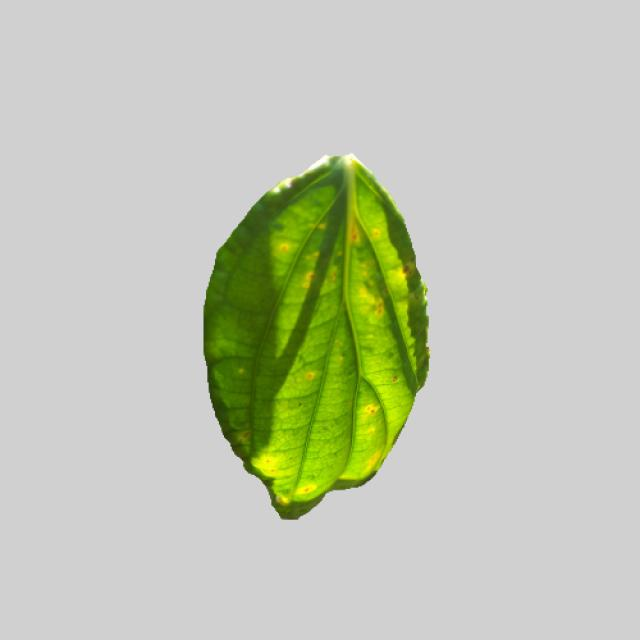yellow-mottle-virus: (190, 147, 436, 516)
